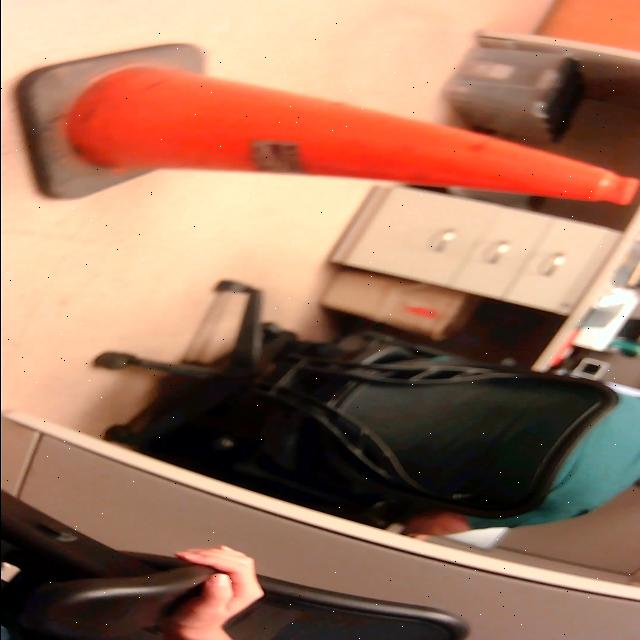traffic cone: (1, 38, 640, 215)
